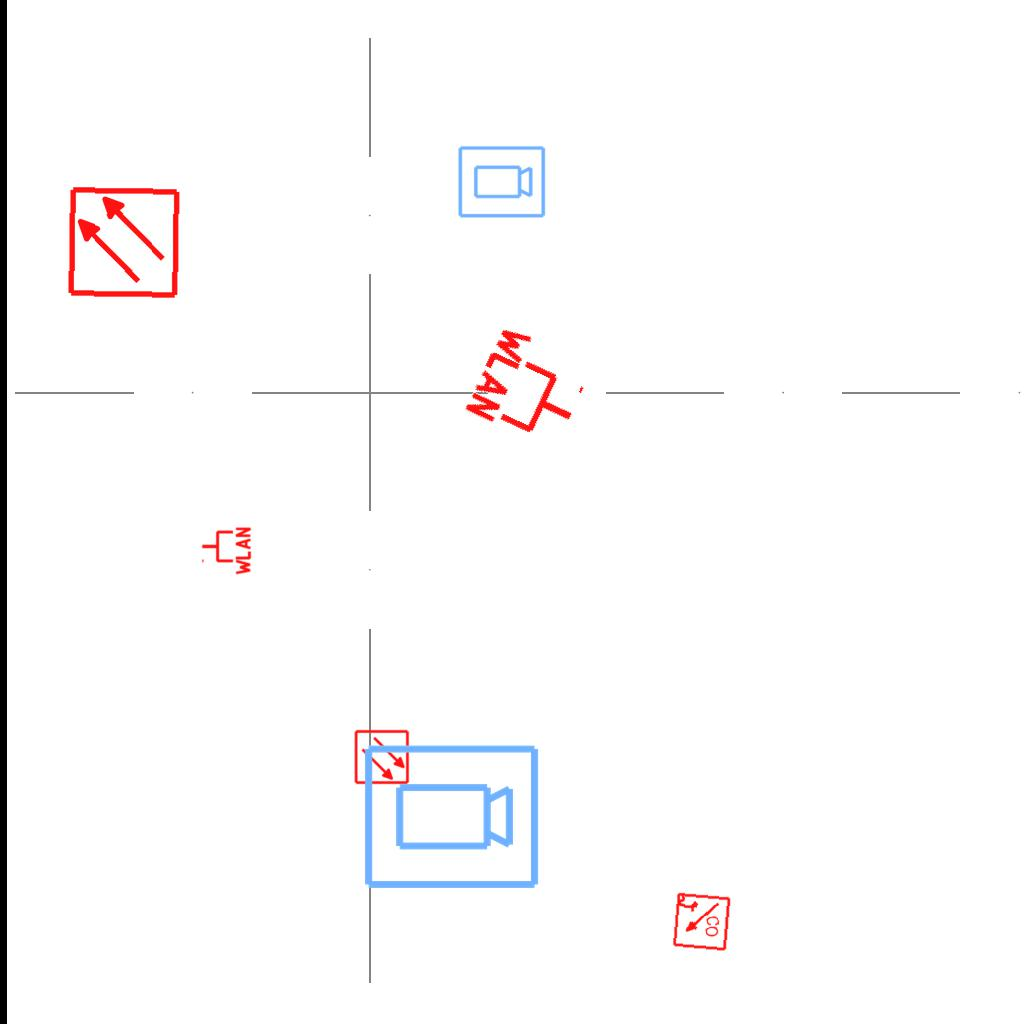KFO_Kamera_mit_Festobjektiv: (360, 741, 542, 895), (456, 144, 547, 221)
RMO_Rauchmelder_optischer: (66, 185, 181, 300), (354, 729, 410, 785)
ROA_Rauchmelder_optisch_mit_Signalgeber_(Sockelsirene): (670, 891, 732, 953)
WLAN: (460, 318, 601, 458), (200, 525, 252, 577)
